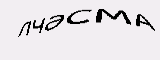А: (133, 10, 154, 31)
Л: (17, 20, 33, 36)
М: (97, 4, 133, 28)
С: (66, 5, 94, 25)
Ч: (30, 16, 44, 35)
Ә: (45, 12, 65, 32)
